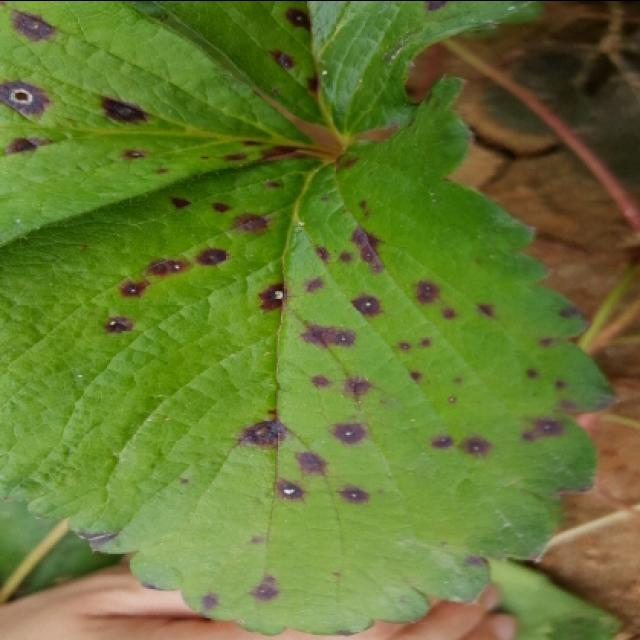Leaf Spot: (0, 68, 624, 637), (0, 2, 315, 247), (131, 2, 546, 149)
